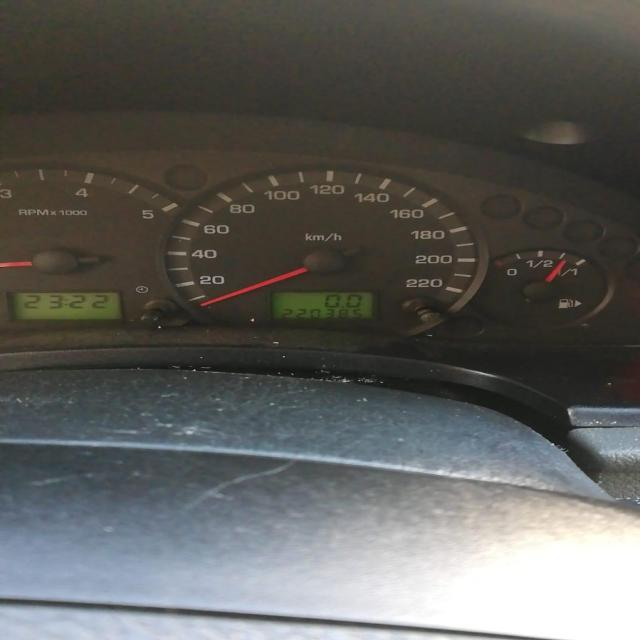odometer: (264, 288, 380, 322)
